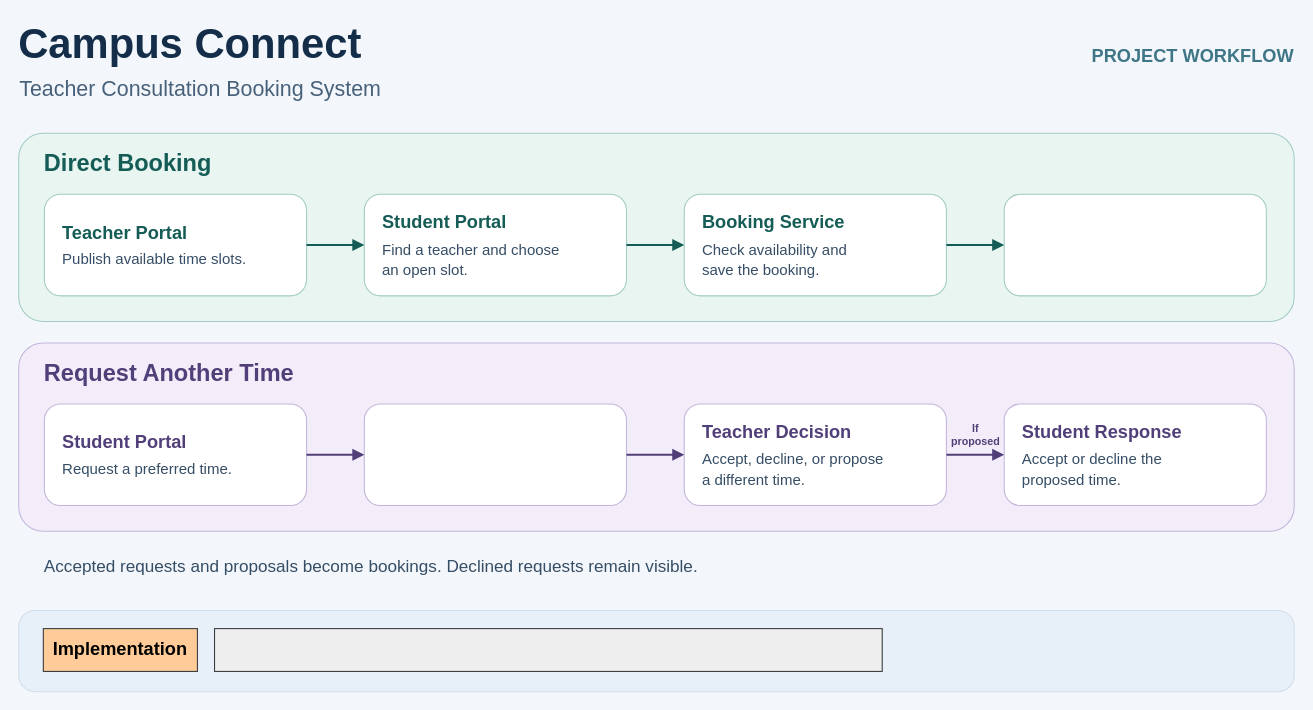
The diagram is 1313 pixels wide and 710 high, and some of its shapes have lost their labels. Here are the shapes that lost their labels. From the top down, the centre of each, then its label:
At point (1134, 244): "Confirmed Booking Show the booking in both portals.".
At point (494, 454): "Teacher Portal Review the consultation request.".
At point (547, 649): "Browser Portals → JSON-RPC 2.0 over HTTP → Python Server → SQLite".
